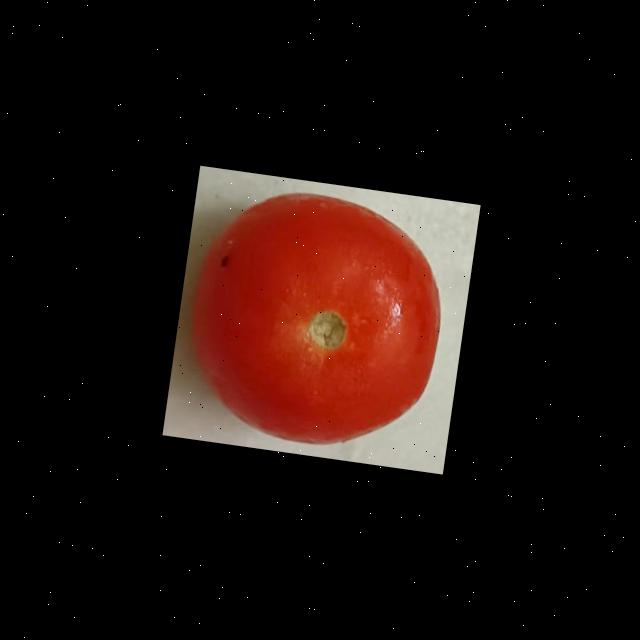tomato: (178, 177, 467, 468)
